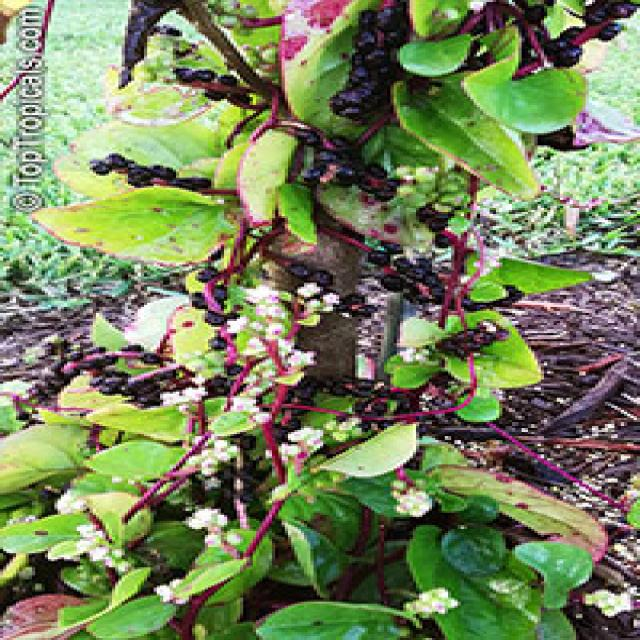Medicinal-Basale: (150, 0, 563, 395), (28, 414, 575, 640)
